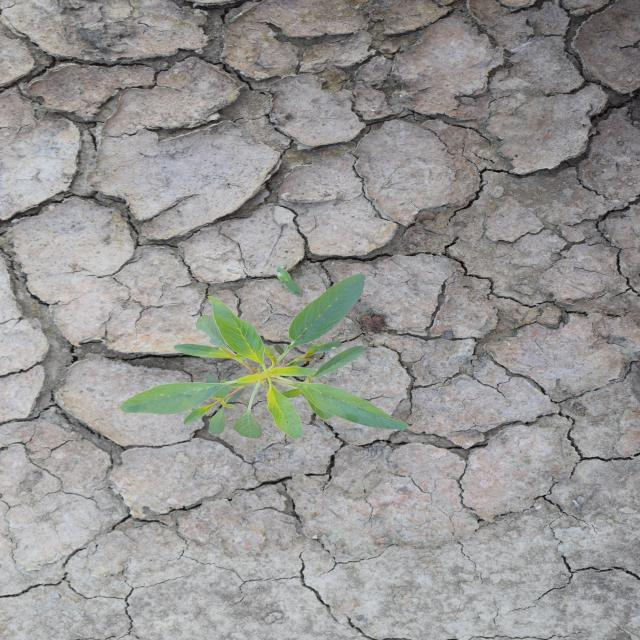Waterhemp: (118, 272, 411, 442)
